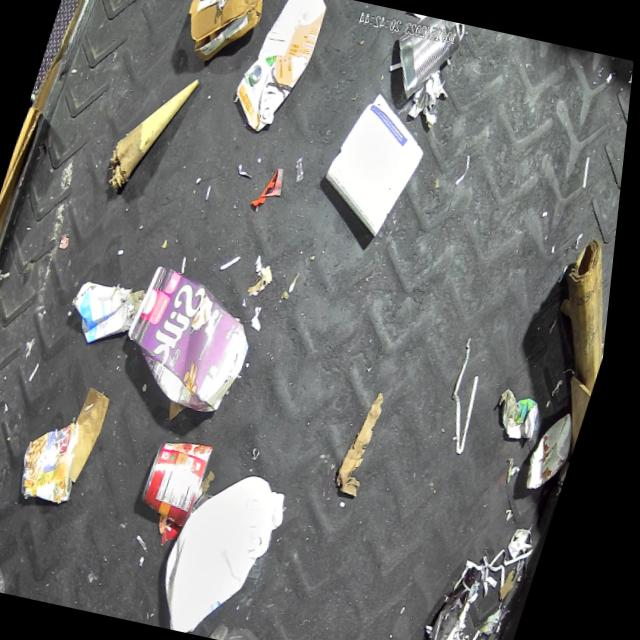can: (380, 12, 468, 106), (20, 412, 103, 507), (144, 432, 226, 528), (531, 407, 591, 495)
milk_jug: (158, 461, 306, 640)
non_white_jug: (114, 262, 275, 420), (227, 0, 332, 140)
